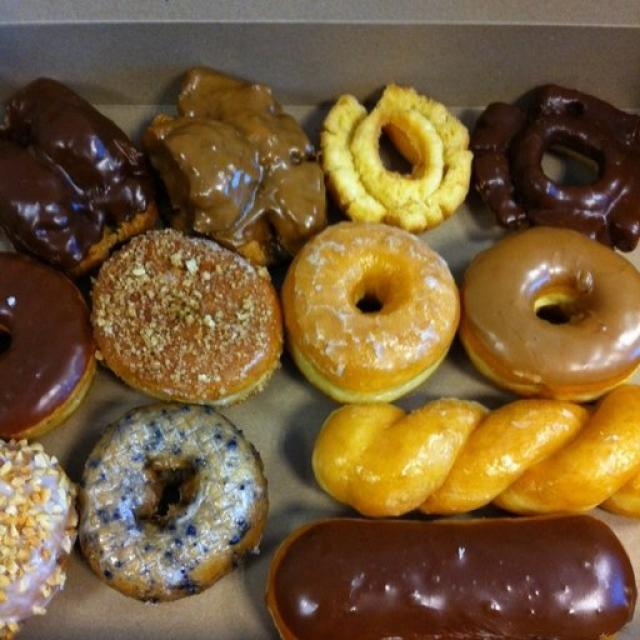Donuts: (9, 54, 640, 640)
